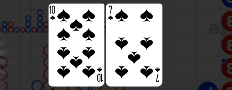10C: (96, 67, 104, 84)
7C: (154, 66, 161, 84)
